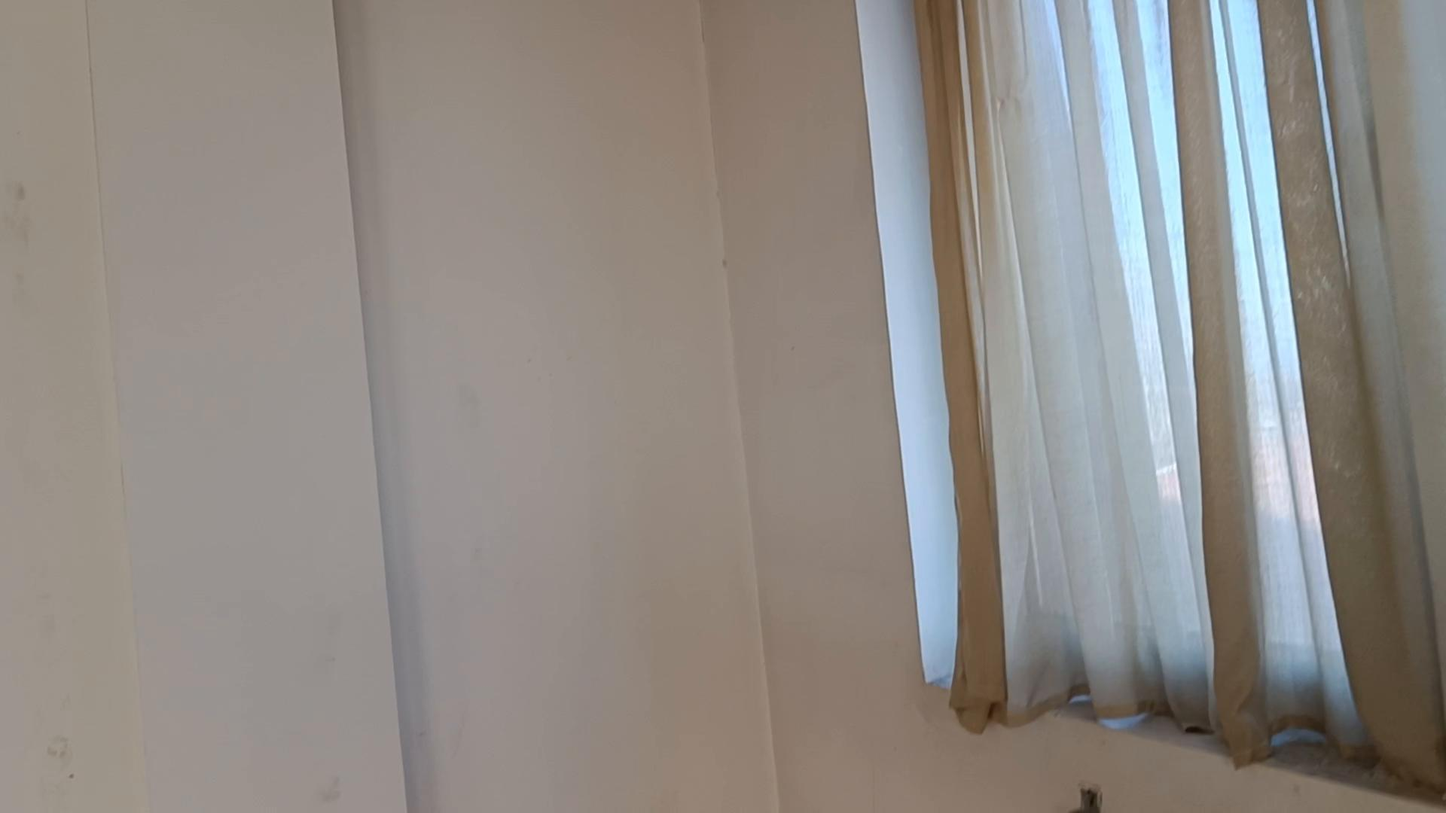wall: (0, 0, 1424, 812)
